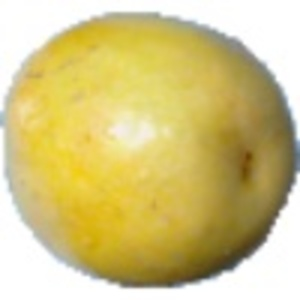maracujá: (1, 12, 300, 291)
